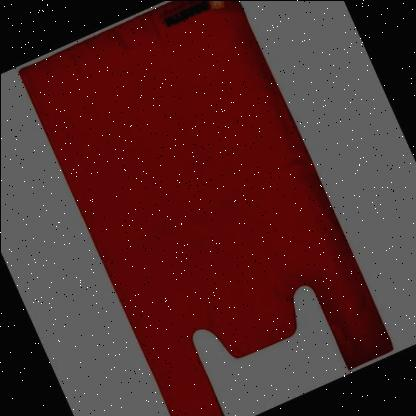Others: (17, 0, 395, 416)
